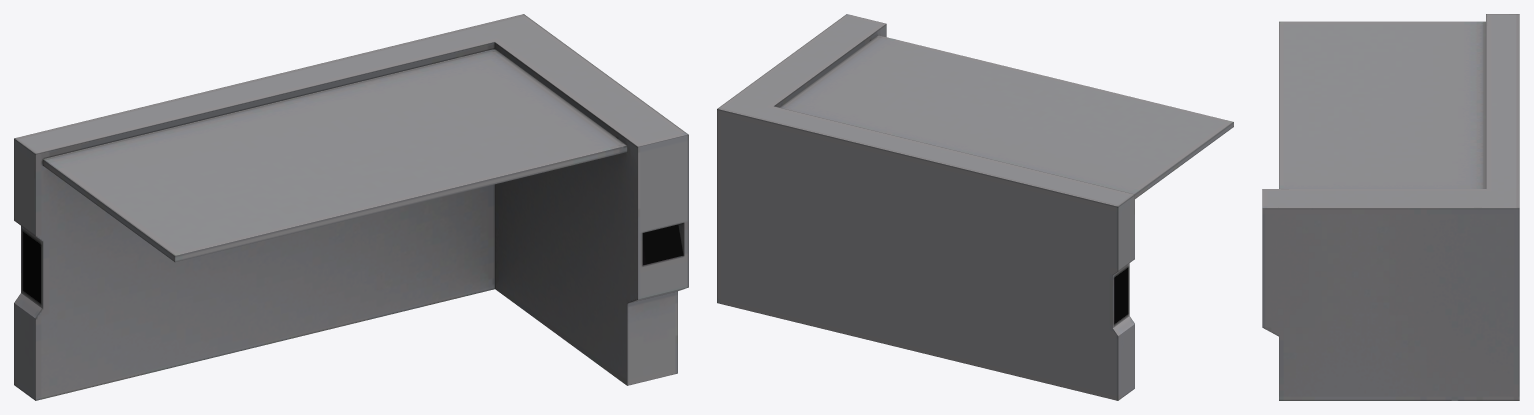
3 views of the same model, side by side, from view 1: azimuth 30°, elevation 25°; view 2: azimuth 150°, elevation 25°; view 3: azimuth 270°, elevation 25° (orthographic). The views are drawn at different scales.
Visible parts, largest first — view 1: saomiao_0; view 2: saomiao_0; view 3: saomiao_0.
Part boxes in pixels (x1,y1,x2,y2): saomiao_0: (14, 14, 688, 400); saomiao_0: (717, 14, 1233, 400); saomiao_0: (1262, 14, 1519, 400).
Bounding box in the file's own units: 3.48 × 1.61 × 1.95.
1 material, 1 textured.
